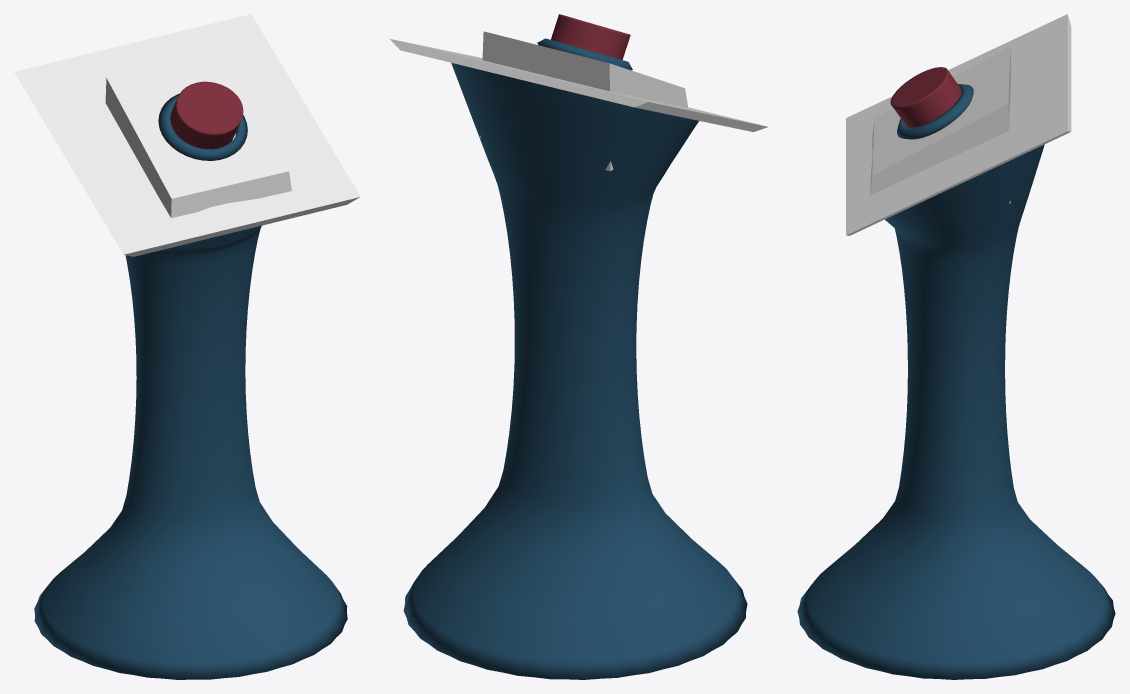
Rendered from ButtonStand.fbx.
The picture shows the model from 3 angles, left to right: view 1: azimuth 30°, elevation 25°; view 2: azimuth 150°, elevation 25°; view 3: azimuth 270°, elevation 25°; orthographic projection. The views are drawn at different scales.
Parts seen in each view (by area): view 1: ButtonsStand, Button; view 2: ButtonsStand, Button; view 3: ButtonsStand, Button.
Part boxes in pixels (x1,y1,x2,y2): ButtonsStand: (14,14,360,679); Button: (170,81,243,149); ButtonsStand: (390,31,767,679); Button: (551,14,630,59); ButtonsStand: (797,14,1115,679); Button: (890,67,961,127).
Size of the model in its own units: 121 by 227 by 121.
